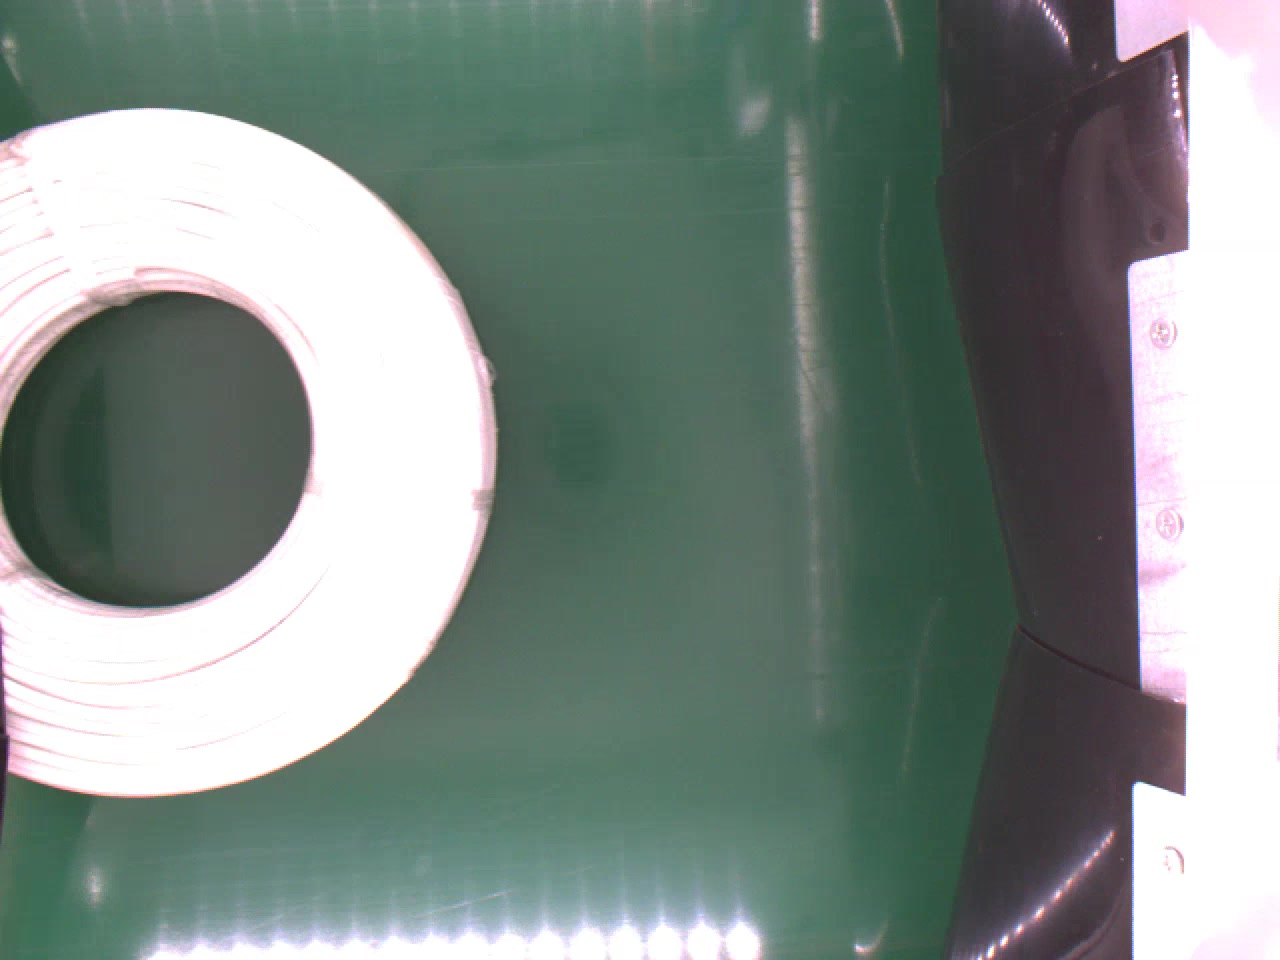white: (0, 108, 504, 795)
